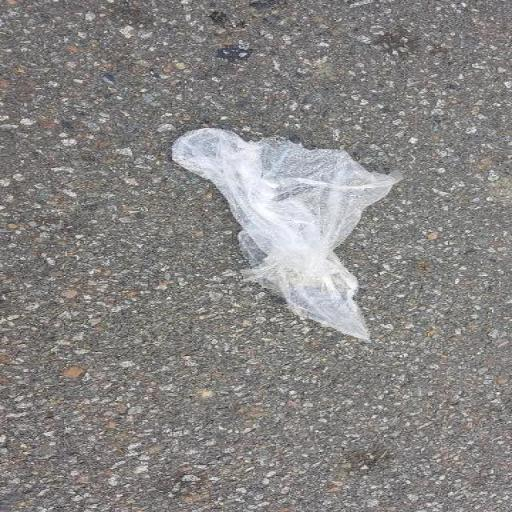plastic-bag: (168, 124, 404, 348)
